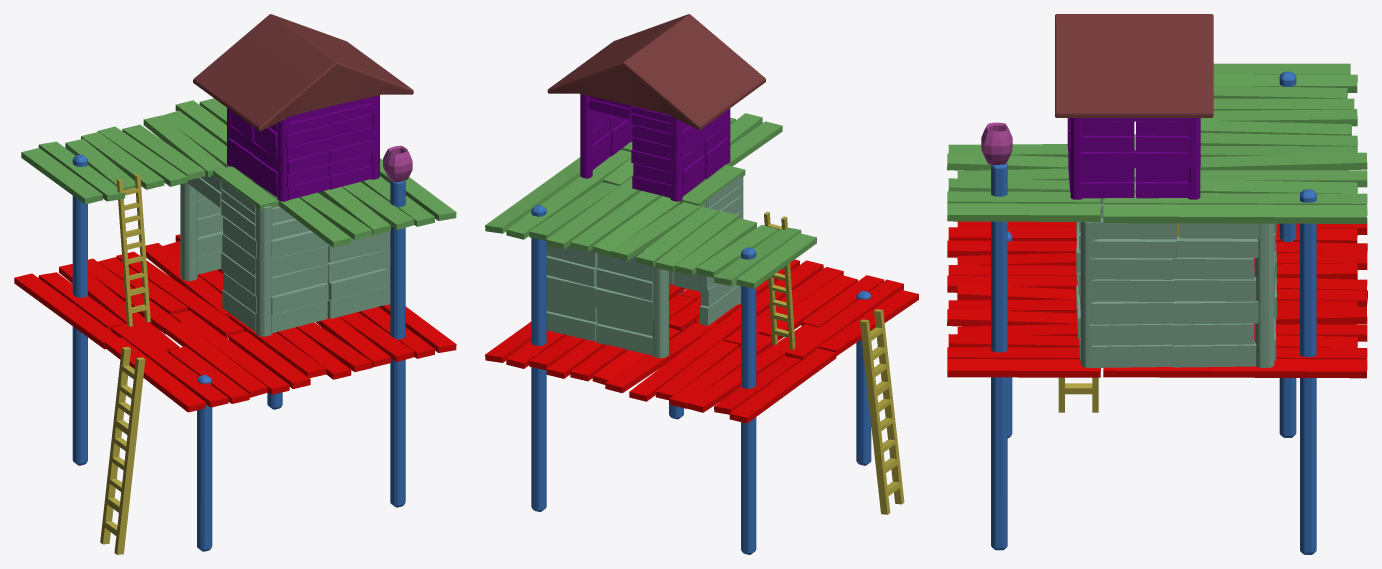
Rendered from FishingShack 1.fbx.
The picture shows the model from 3 angles, left to right: view 1: azimuth 30°, elevation 25°; view 2: azimuth 150°, elevation 25°; view 3: azimuth 270°, elevation 25°; orthographic projection. The views are drawn at different scales.
Visible parts, largest first — view 1: Level1Floor, Level1Shack, Level2Floor, ShackRoof, Level2Shack, ShackSupports, Ladders, BarrelOnStand; view 2: Level1Floor, Level2Floor, Level1Shack, ShackRoof, Level2Shack, ShackSupports, Ladders; view 3: Level2Floor, Level1Floor, Level1Shack, ShackRoof, ShackSupports, Level2Shack, BarrelOnStand, Ladders.
Boxes of the visible parts, x1=… form: Level1Floor: x1=14, y1=234, x2=456, y2=412; Level1Shack: x1=180, y1=174, x2=390, y2=336; Level2Floor: x1=21, y1=98, x2=456, y2=247; ShackRoof: x1=193, y1=14, x2=413, y2=131; Level2Shack: x1=227, y1=95, x2=379, y2=201; ShackSupports: x1=72, y1=154, x2=405, y2=551; Ladders: x1=100, y1=174, x2=150, y2=554; BarrelOnStand: x1=383, y1=145, x2=412, y2=182; Level1Floor: x1=485, y1=259, x2=918, y2=423; Level2Floor: x1=485, y1=113, x2=816, y2=288; Level1Shack: x1=546, y1=176, x2=743, y2=358; ShackRoof: x1=547, y1=14, x2=765, y2=130; Level2Shack: x1=580, y1=94, x2=730, y2=201; ShackSupports: x1=531, y1=205, x2=871, y2=554; Ladders: x1=764, y1=211, x2=904, y2=514; Level2Floor: x1=947, y1=63, x2=1367, y2=223; Level1Floor: x1=947, y1=218, x2=1367, y2=378; Level1Shack: x1=1076, y1=198, x2=1276, y2=367; ShackRoof: x1=1055, y1=14, x2=1213, y2=117; ShackSupports: x1=991, y1=71, x2=1316, y2=554; Level2Shack: x1=1067, y1=118, x2=1200, y2=199; BarrelOnStand: x1=981, y1=122, x2=1012, y2=164; Ladders: x1=1058, y1=223, x2=1179, y2=412.
Size of the model in its own units: 484 by 690 by 506.
